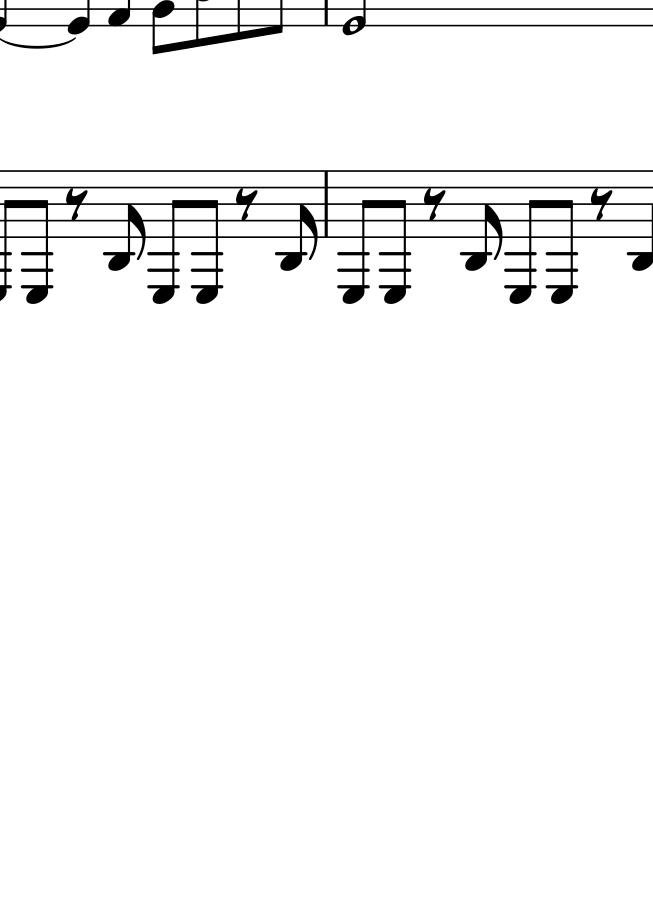8_-3: (276, 168, 322, 272), (104, 169, 148, 275), (460, 169, 503, 274)
8_-7: (504, 169, 543, 307), (337, 168, 374, 307), (150, 169, 184, 307), (192, 168, 222, 308), (380, 168, 410, 306), (22, 169, 52, 306), (548, 169, 577, 310)
Rests8: (62, 187, 90, 221), (233, 186, 259, 221), (421, 188, 448, 219), (588, 187, 614, 219)
Single_barline: (317, 172, 335, 238)
